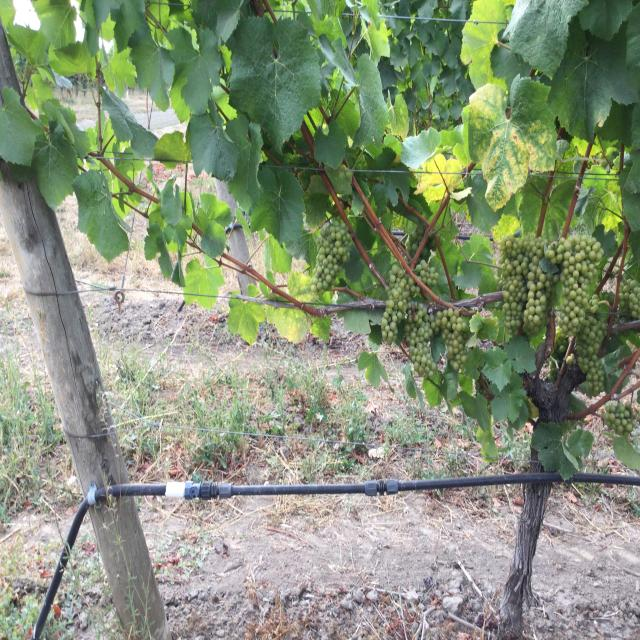grapes: (545, 235, 604, 337), (499, 237, 559, 335), (381, 265, 420, 345), (311, 222, 352, 293), (576, 312, 606, 397), (405, 305, 438, 378), (434, 308, 469, 372), (604, 402, 636, 437), (619, 280, 640, 320), (415, 260, 439, 288), (405, 225, 425, 257), (421, 238, 436, 260)
